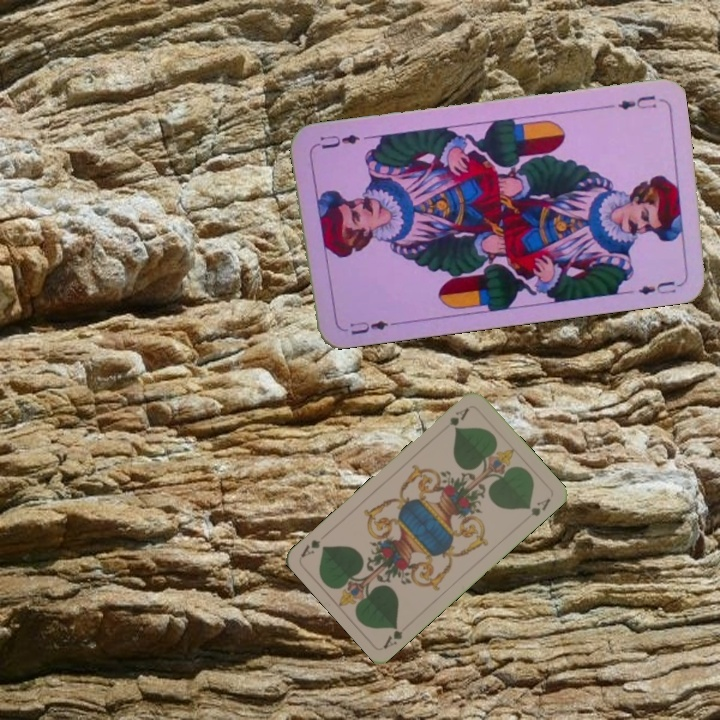EU: (613, 91, 659, 112), (346, 316, 390, 337)
GA: (379, 622, 406, 651), (445, 403, 472, 432)
